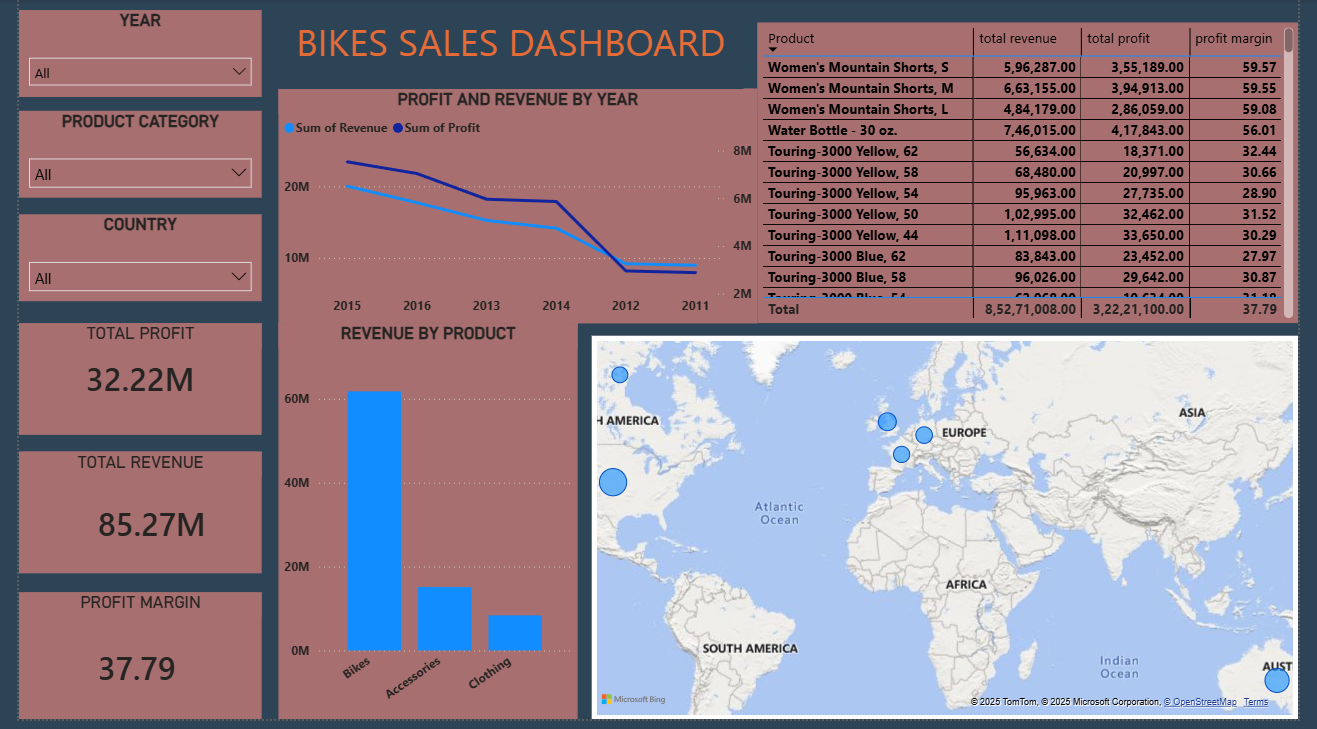

What the dashboard file says about the page in this screenshot:
{"tool":"powerbi","page":{"name":"Page 1","canvas":[1280,720],"ordinal":0},"visuals":[{"type":"cardVisual","title":"TOTAL PROFIT","fields":{"Data":["bikes sales_data.total profit"]},"box":[0,324.4,242.9,111.8],"z":1},{"type":"slicer","title":"COUNTRY","fields":{"Values":["bikes sales_data.Country"]},"box":[0,215.3,242.9,87],"z":5},{"type":"cardVisual","title":"PROFIT MARGIN","fields":{"Data":["bikes sales_data.profit margin"]},"box":[0,593.6,242.9,127],"z":6},{"type":"cardVisual","title":"TOTAL REVENUE","fields":{"Data":["bikes sales_data.total revenue"]},"box":[0,452.8,242.9,121.5],"z":7},{"type":"slicer","title":"PRODUCT CATEGORY","fields":{"Values":["bikes sales_data.Product_Category"]},"box":[0,111.8,242.9,87],"z":8},{"type":"map","fields":{"Category":["bikes sales_data.Country"],"Size":["Sum(bikes sales_data.Revenue)"]},"box":[572.9,336.8,706.8,383.7],"z":10},{"type":"slicer","title":"YEAR","fields":{"Values":["bikes sales_data.Year"]},"box":[0,11,242.9,87],"z":11},{"type":"columnChart","title":"REVENUE BY PRODUCT","fields":{"Category":["bikes sales_data.Product_Category"],"Y":["Sum(bikes sales_data.Revenue)"]},"box":[259.5,324.4,299.5,396.2],"z":12},{"type":"lineChart","title":"PROFIT AND REVENUE BY YEAR","fields":{"Category":["bikes sales_data.Year"],"Y":["Sum(bikes sales_data.Revenue)"],"Y2":["Sum(bikes sales_data.Profit)"]},"box":[259.5,89.7,479,234.7],"z":13},{"type":"tableEx","fields":{"Values":["bikes sales_data.Product","bikes sales_data.total revenue","bikes sales_data.total profit","bikes sales_data.profit margin"]},"box":[738.5,23.5,541.1,300.9],"z":14},{"type":"textbox","box":[259.5,11,465.2,78.7],"z":15}]}

Visuals, with their boxes in screenshot pixels (x1, y1, x2, y2), scaled from the page's 1280x720 canvas onto the 1317x729 screenshot:
"TOTAL PROFIT" cardVisual: (0,328,250,442)
"COUNTRY" slicer: (0,218,250,306)
"PROFIT MARGIN" cardVisual: (0,601,250,728)
"TOTAL REVENUE" cardVisual: (0,458,250,581)
"PRODUCT CATEGORY" slicer: (0,113,250,201)
map - bikes sales_data.Country x Sum(bikes sales_data.Revenue): (589,341,1316,728)
"YEAR" slicer: (0,11,250,99)
"REVENUE BY PRODUCT" columnChart: (267,328,575,728)
"PROFIT AND REVENUE BY YEAR" lineChart: (267,91,760,328)
tableEx - bikes sales_data.Product x bikes sales_data.total revenue: (760,24,1316,328)
textbox: (267,11,746,91)
